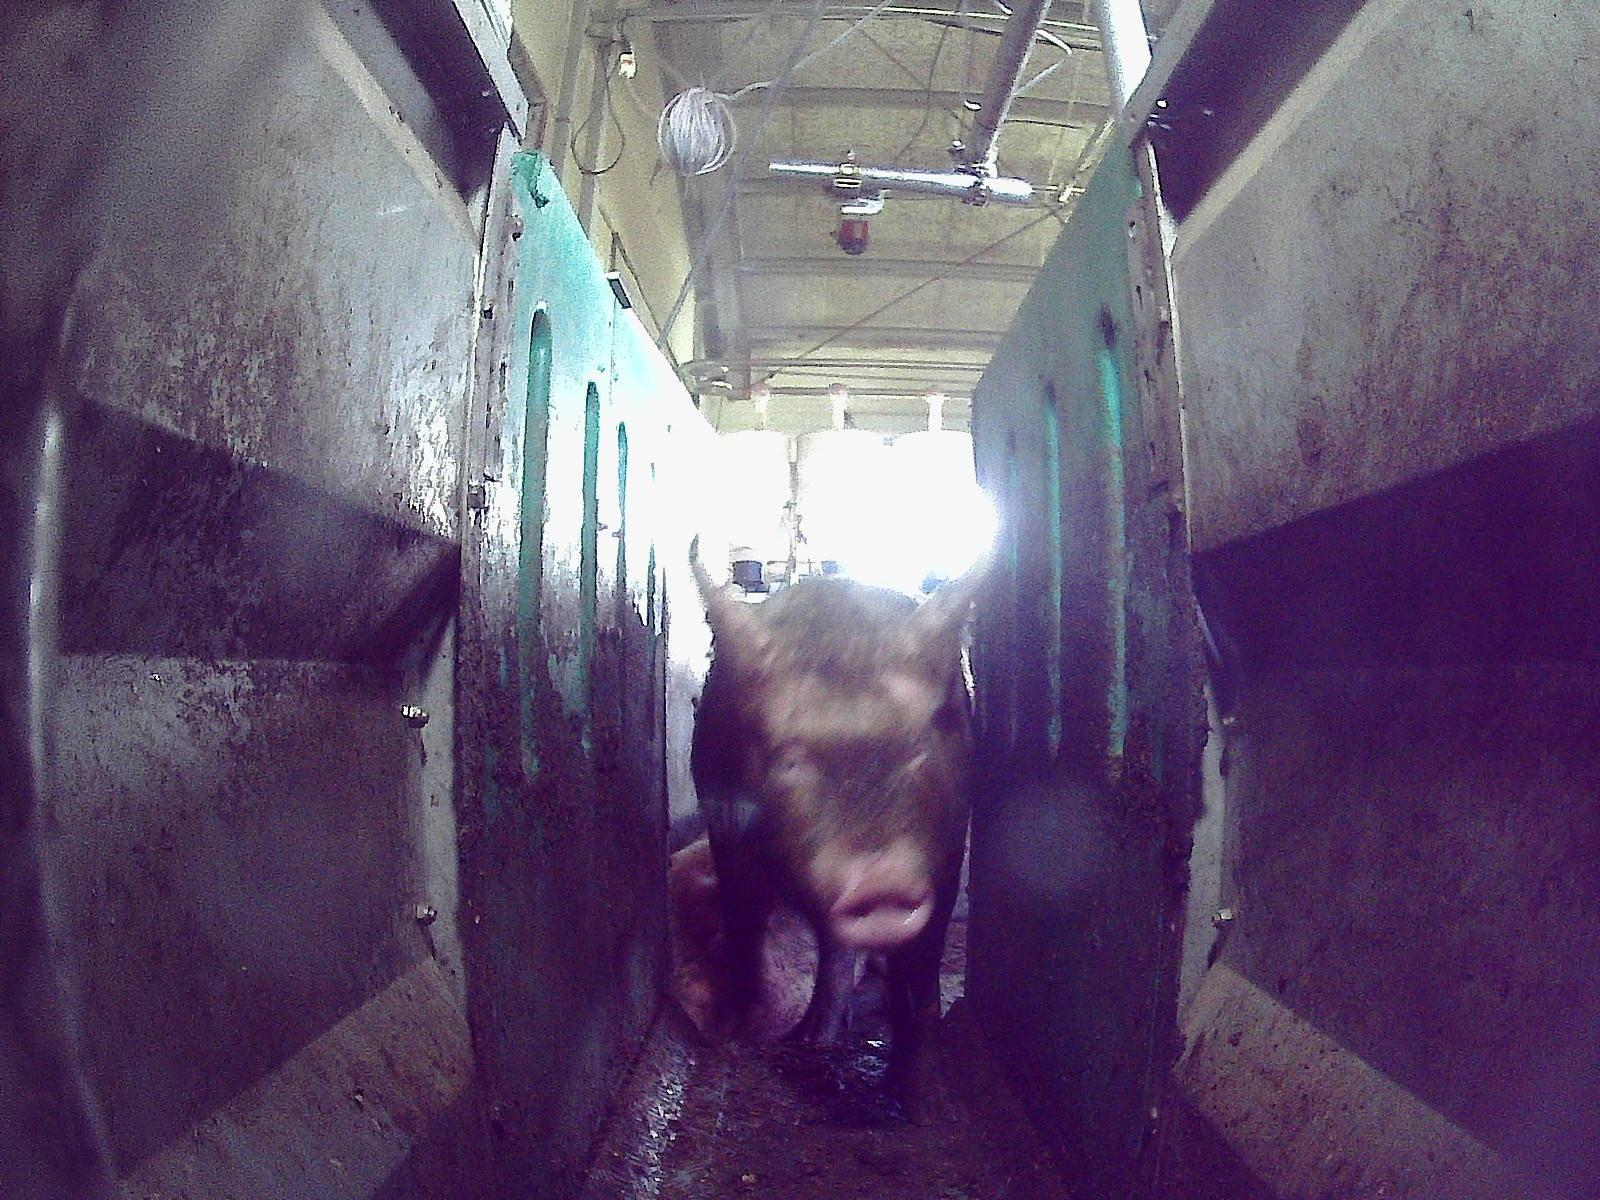Face: (733, 624, 960, 949)
